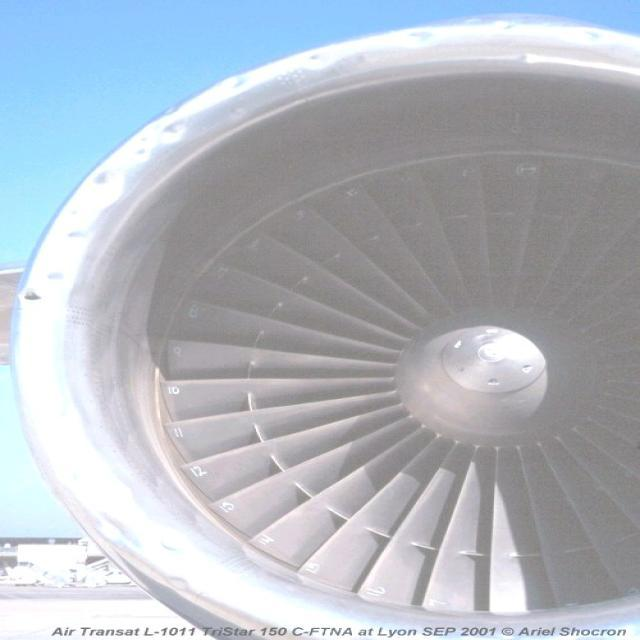dent: (91, 514, 205, 596), (72, 165, 122, 211)
